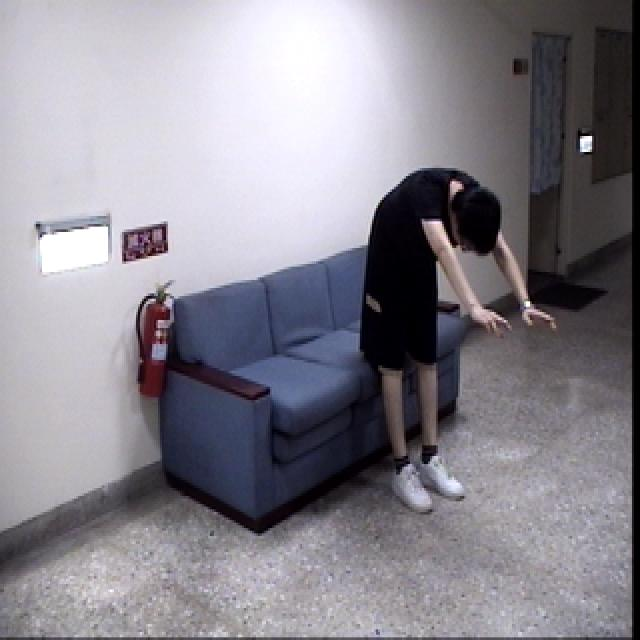bend: (350, 154, 551, 521)
